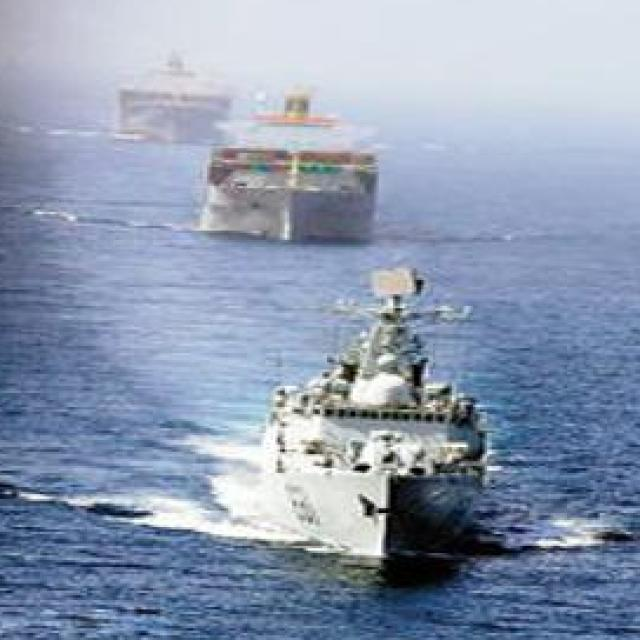navalvessels: (238, 240, 514, 562), (206, 91, 398, 246), (96, 45, 237, 144)
